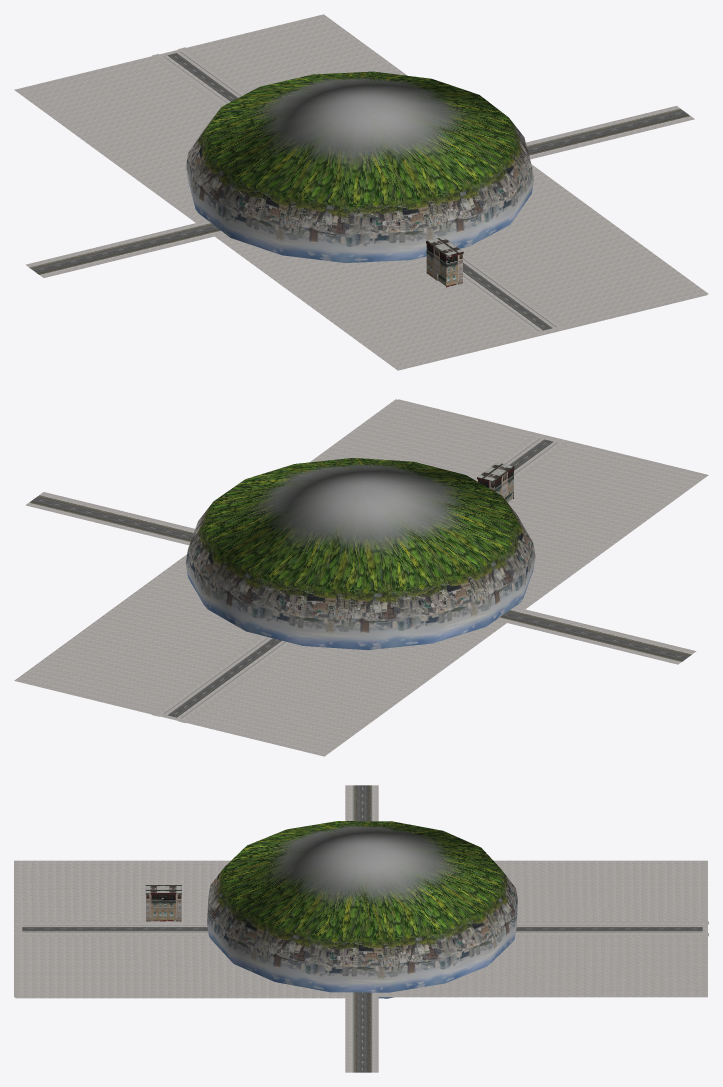
File: Junction.glb
3 views of the same model, one above another, from view 1: azimuth 30°, elevation 25°; view 2: azimuth 150°, elevation 25°; view 3: azimuth 270°, elevation 25° (orthographic). The views are drawn at different scales.
Visible parts, largest first — view 1: Junction; view 2: Junction; view 3: Junction.
Boxes of the visible parts, <box> form: Junction: <box>14,14,708,370</box>; Junction: <box>14,399,708,756</box>; Junction: <box>14,785,708,1072</box>.
Size of the model in its own units: 2138 by 315 by 2185.
Materials: 29 (29 with a texture image).
